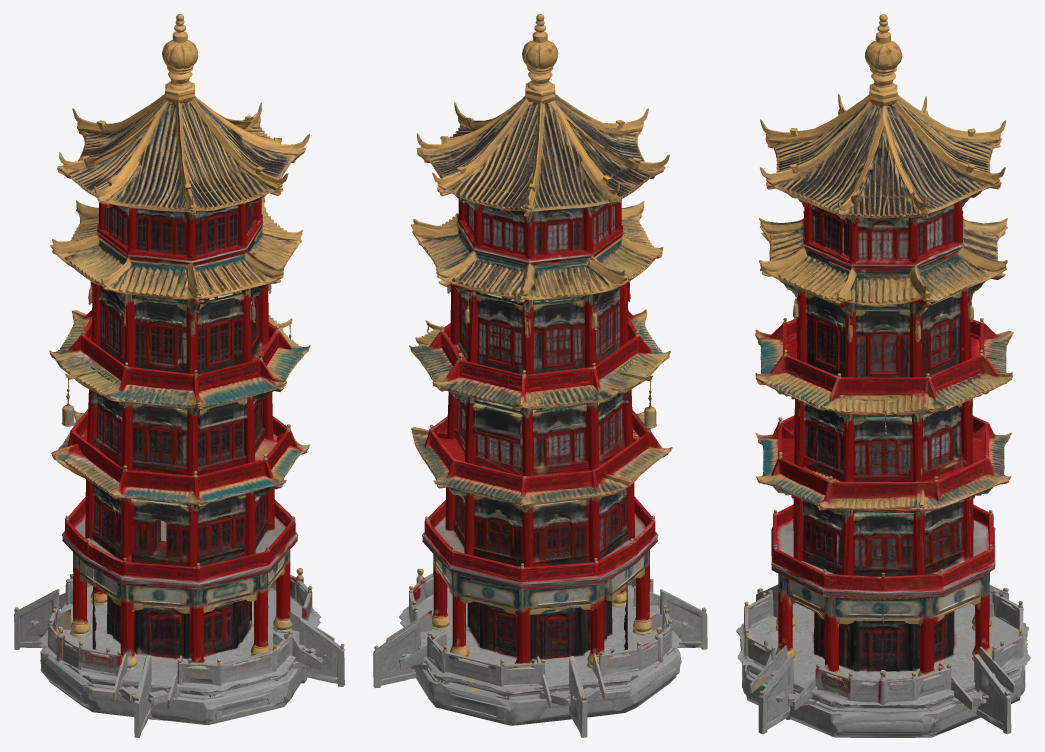
File: tower_nine.hd.glb
3 renders of one model, left to right at view 1: azimuth 30°, elevation 25°; view 2: azimuth 150°, elevation 25°; view 3: azimuth 270°, elevation 25°, orthographic. The views are drawn at different scales.
Bounding box in the file's own units: 0.7557 × 1.9 × 0.762.
1 material, 1 textured.
